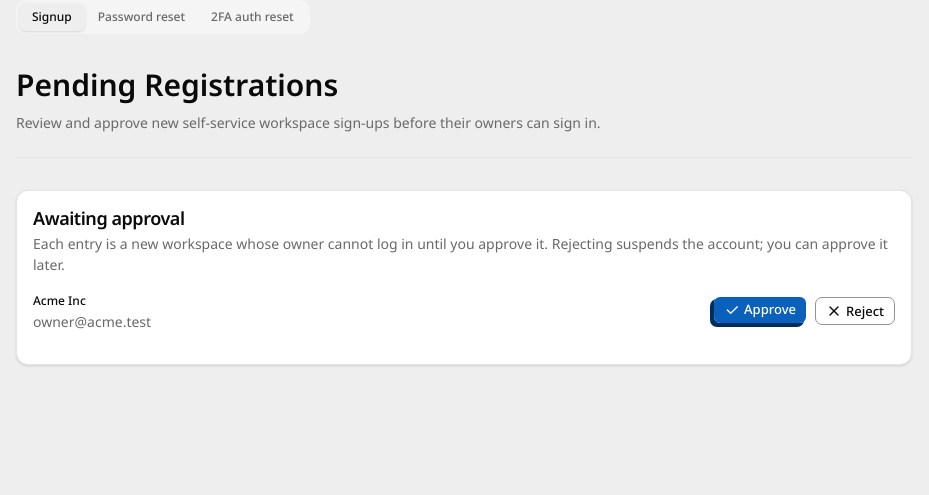
PendingRegistrationsPage — list and actions › POSTs approve and removes the row on success
Click the button with test id "registration-approve-1002". click: (760, 310)
box: [713,296,807,324]
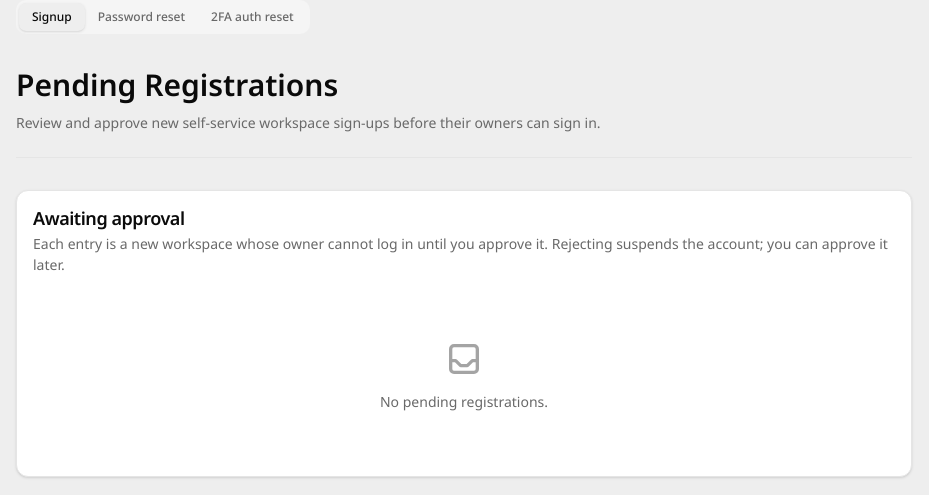
Expected: the list item with test id "registration-row-1002" is gone
